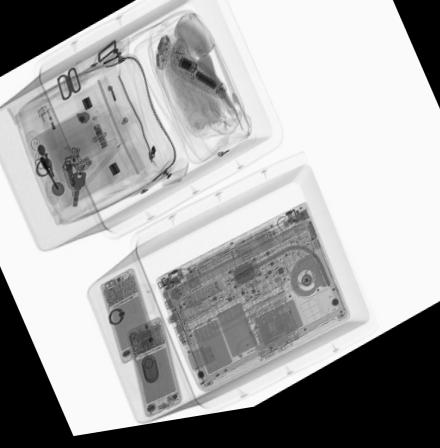Lighter: (36, 105, 63, 151)
